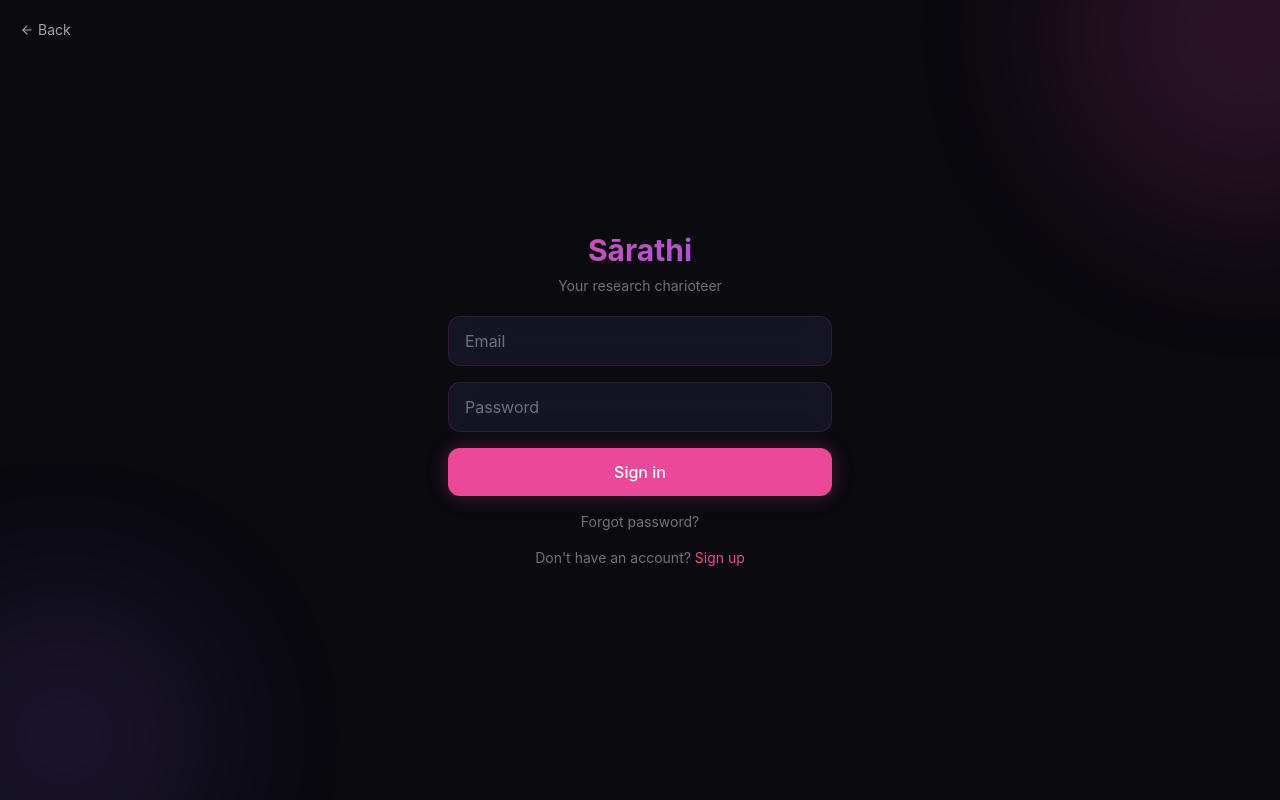
Login › shows error on login failure
In the field with placeholder "Email": [640, 341] box [448,316,832,366], type "bad@email.com"
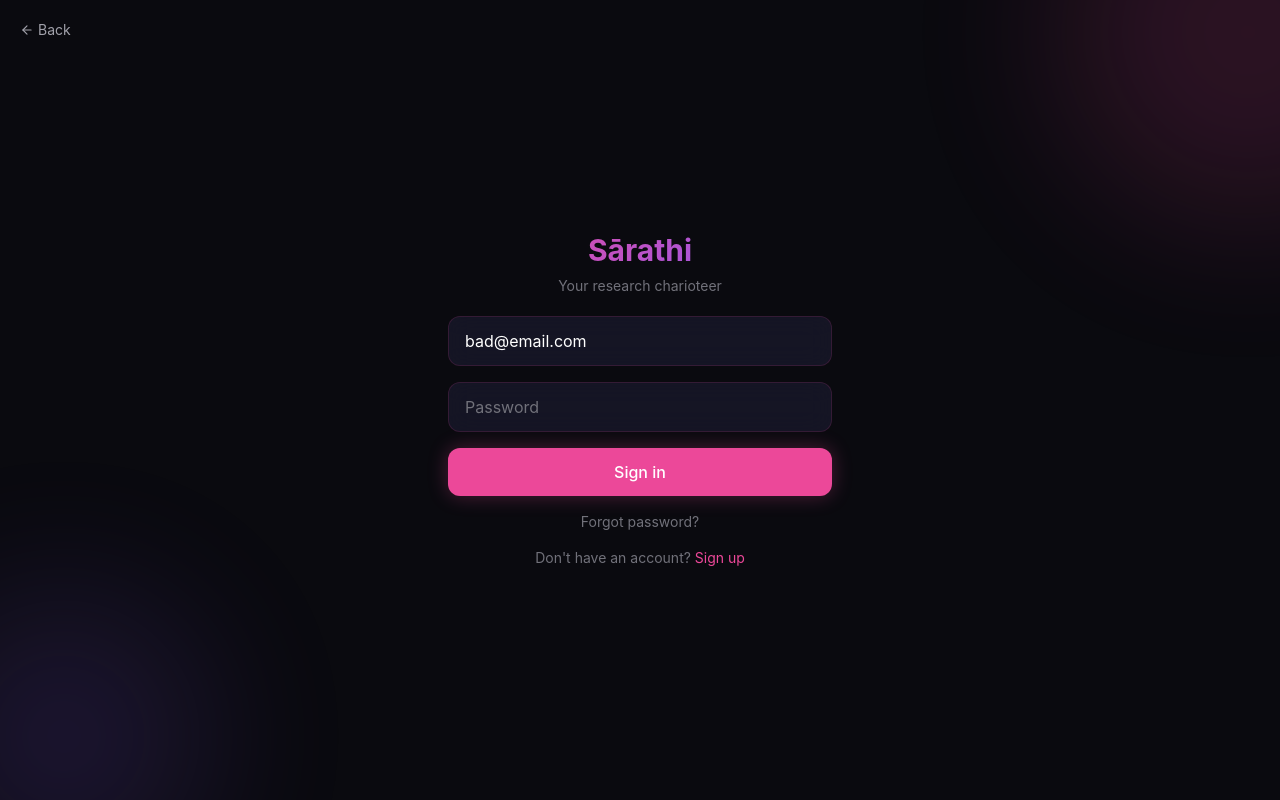
In the password field with placeholder "Password": [640, 407] box [448,382,832,432], type "wrong"
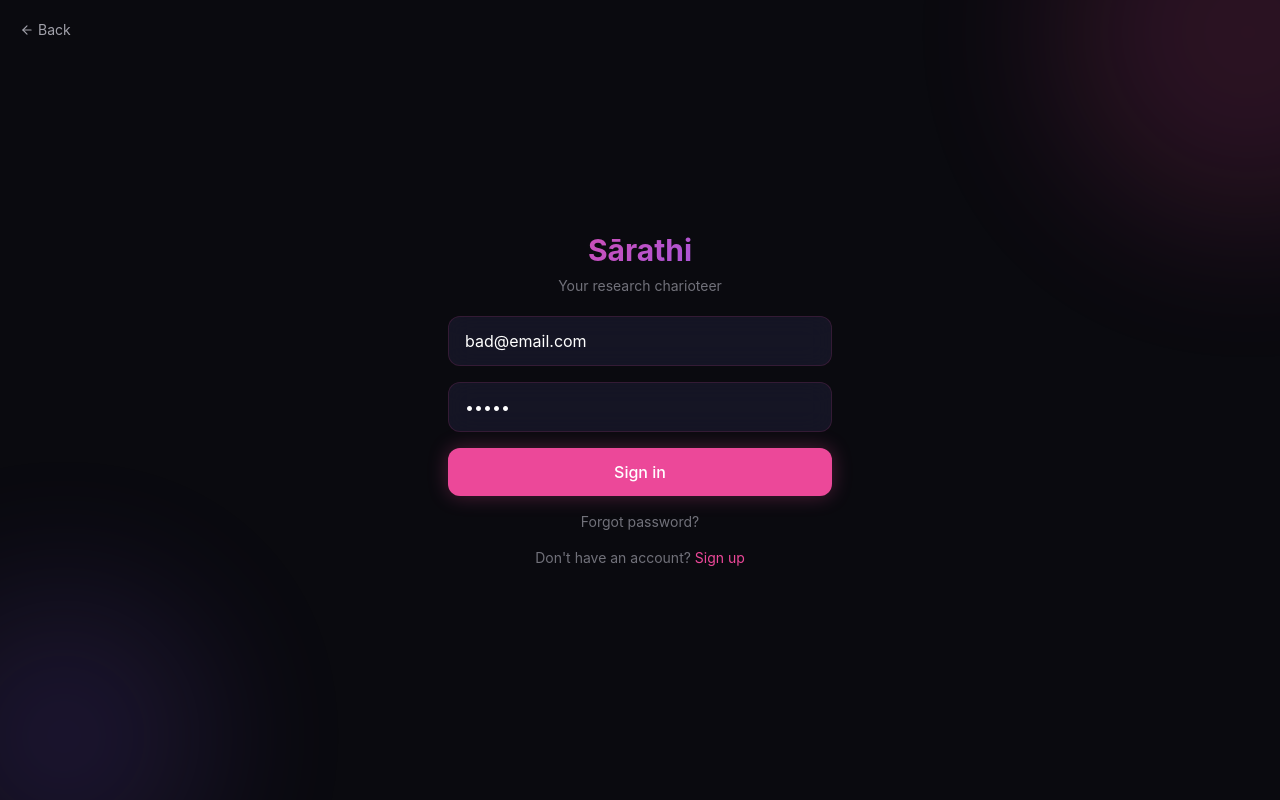
Click the button "Sign in": [640, 472] box [448,448,832,496]
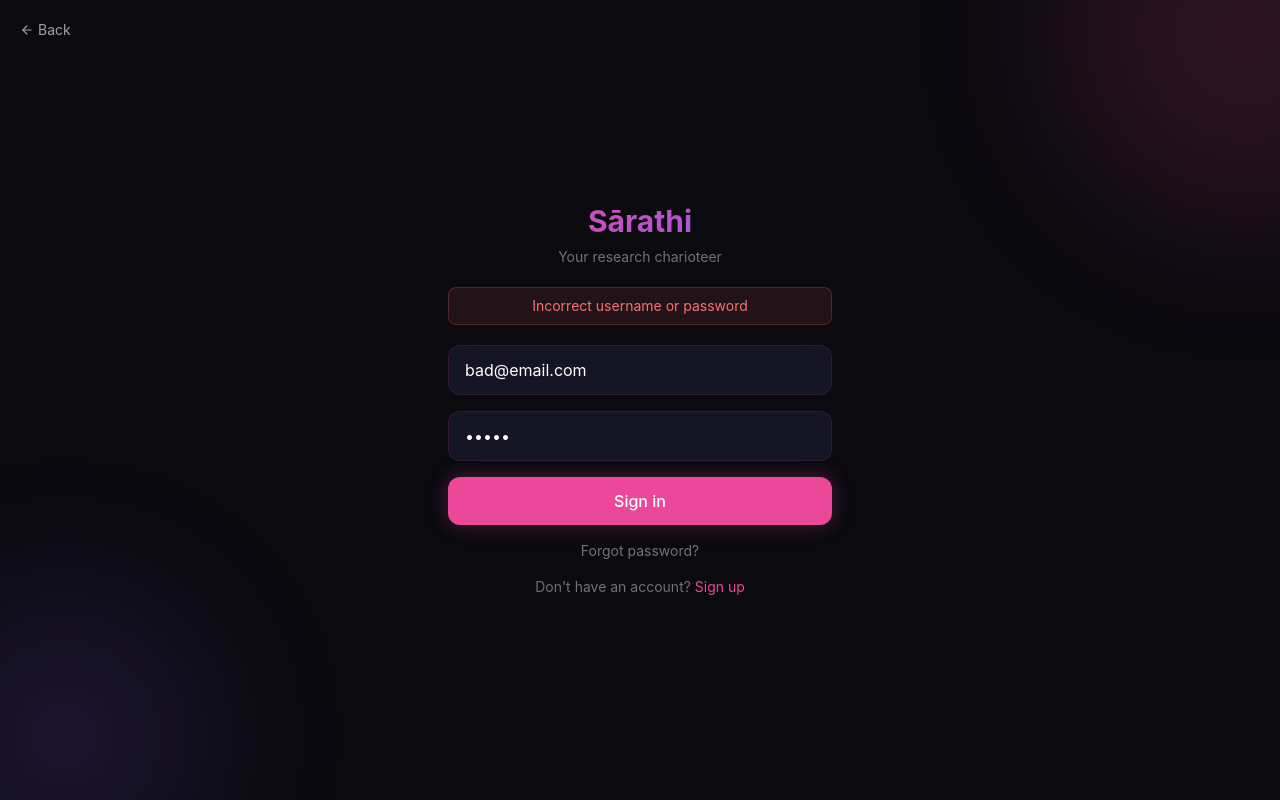
Expected: the text "Incorrect username or password" is shown, [448,287,832,325]
